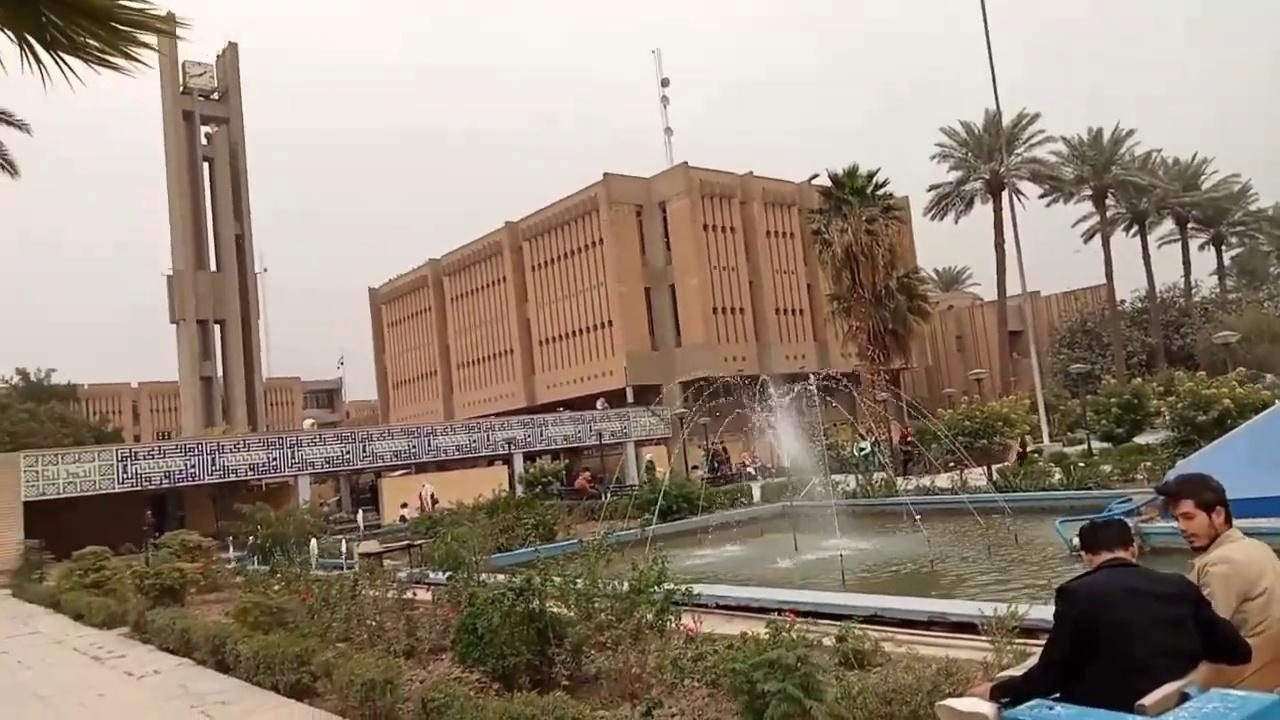fountain: (470, 368, 1277, 633), (643, 368, 1030, 594)
person: (963, 515, 1254, 716), (1134, 471, 1279, 717), (897, 425, 914, 476), (852, 431, 873, 472), (573, 467, 600, 497), (140, 508, 158, 551), (418, 481, 433, 513), (1015, 434, 1028, 466), (643, 453, 656, 483), (397, 501, 410, 523), (595, 396, 609, 409)
tree: (922, 104, 1276, 441), (922, 104, 1059, 436), (803, 160, 934, 473), (0, 0, 192, 180), (1117, 147, 1256, 371), (1036, 119, 1147, 387), (1111, 147, 1174, 371), (1148, 149, 1223, 317), (1190, 172, 1259, 309), (1233, 199, 1279, 311), (1245, 199, 1279, 270), (926, 263, 978, 294)
